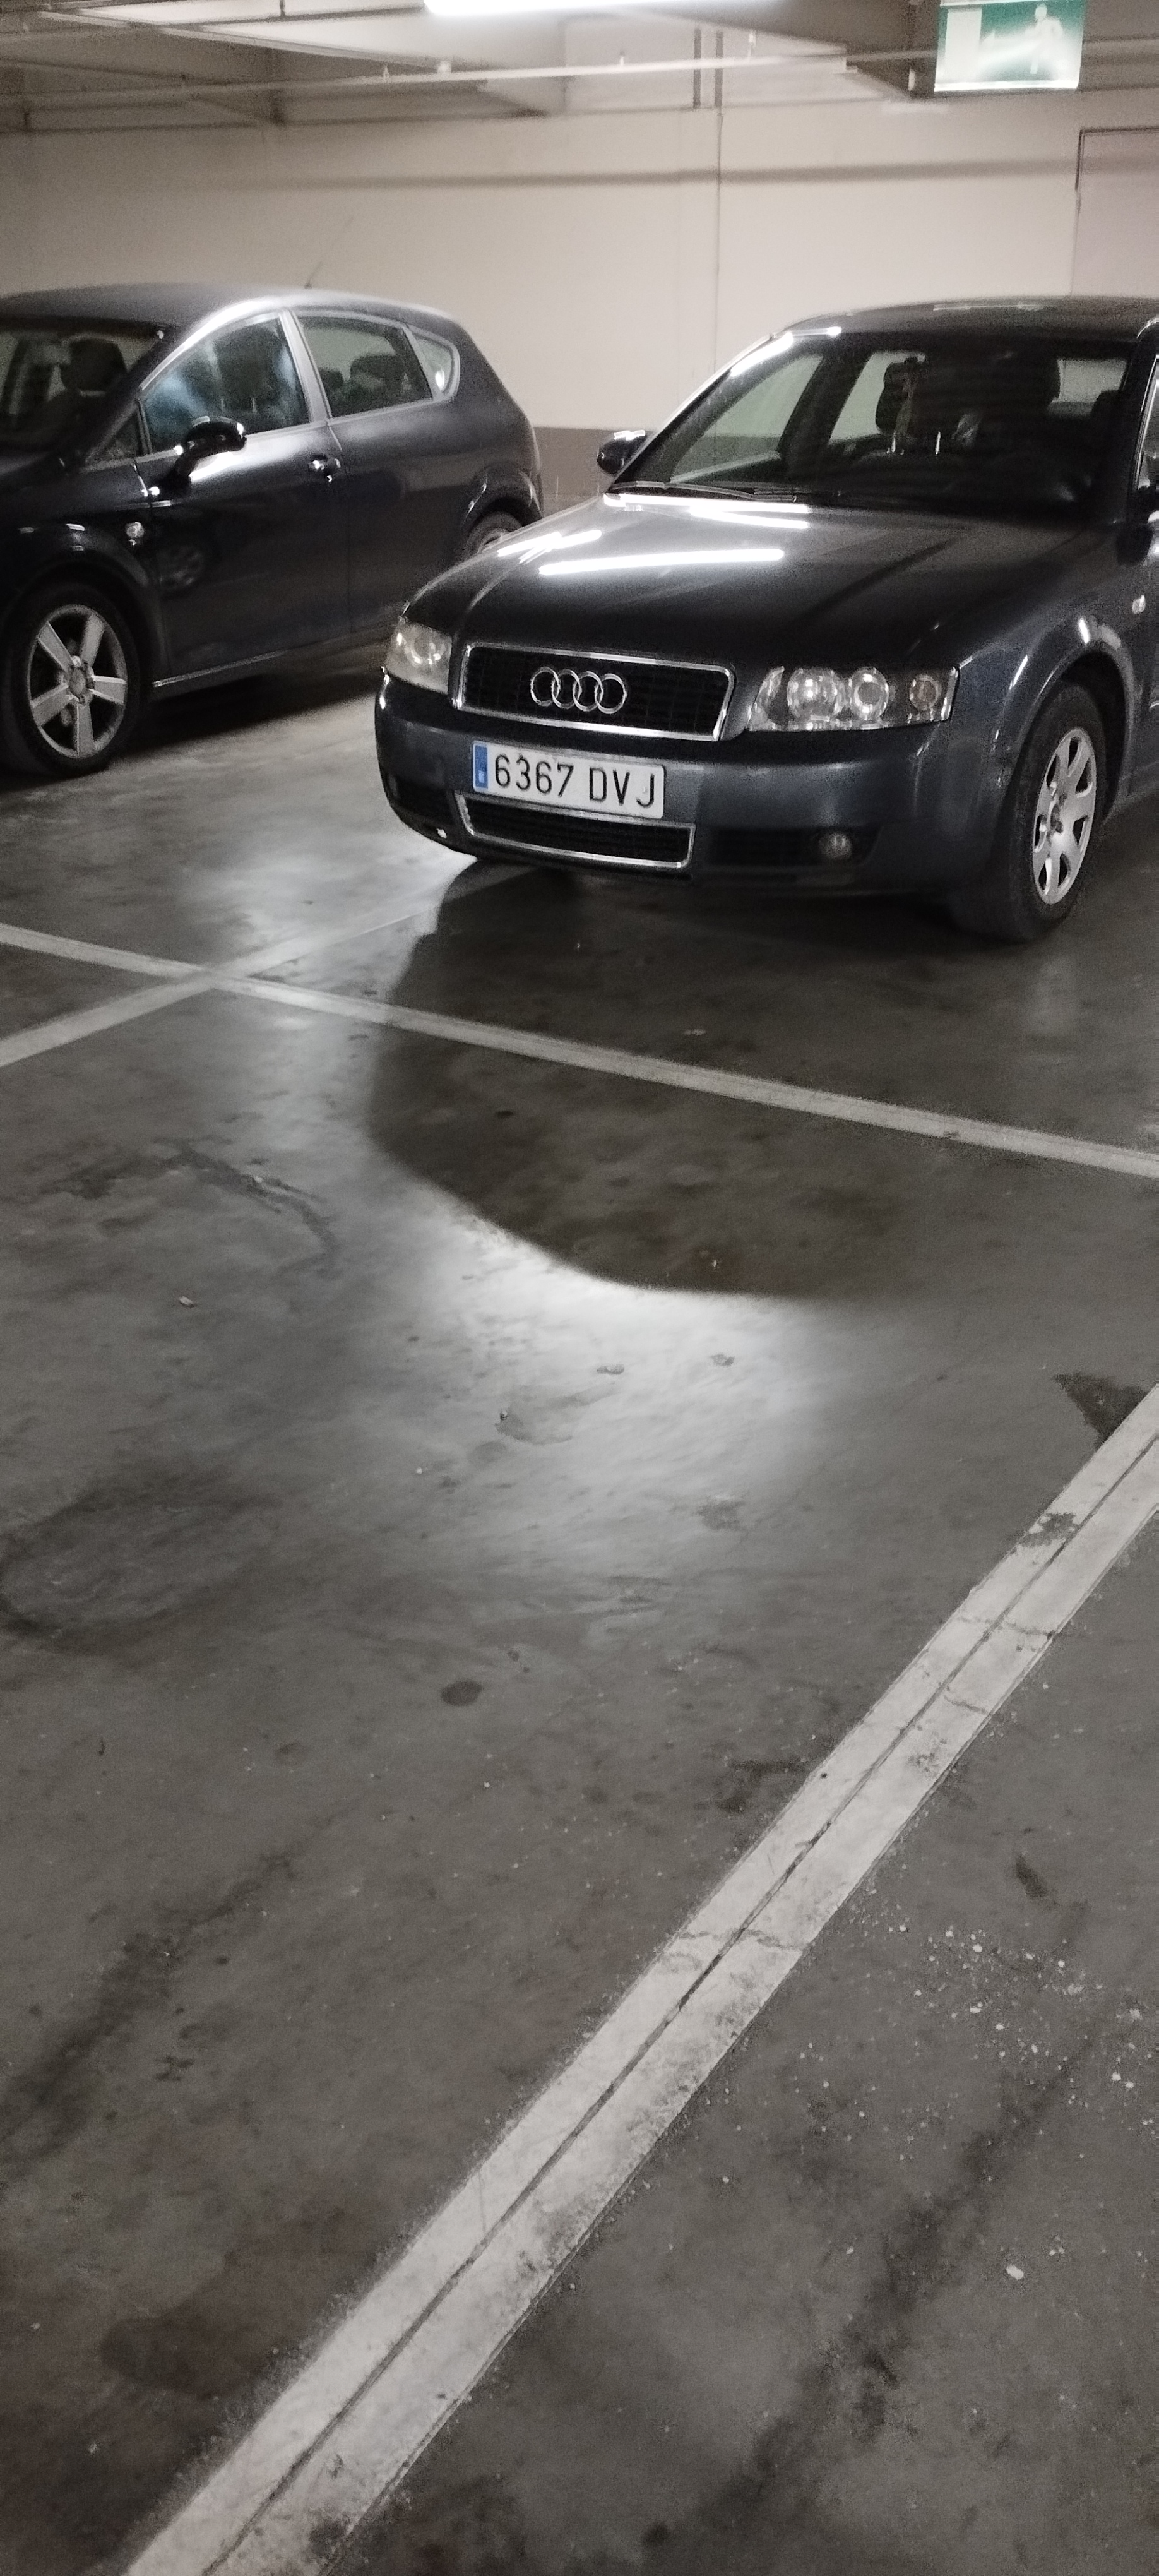Car: (379, 301, 1153, 917)
Plate: (474, 736, 660, 797)
